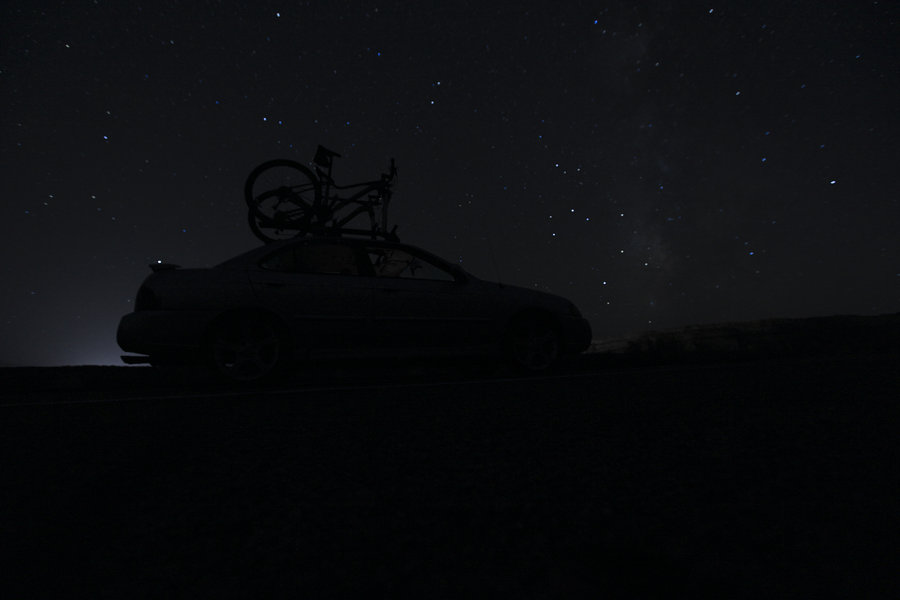car: (107, 228, 603, 414)
